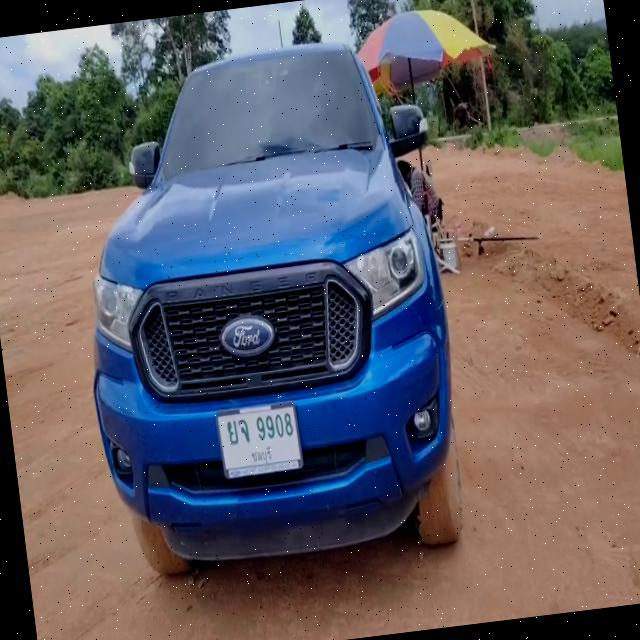Digit: (252, 409, 294, 443)
Licenseplate: (216, 403, 302, 478)
Provincename: (248, 443, 274, 466)
Thaichar: (227, 416, 250, 446)
